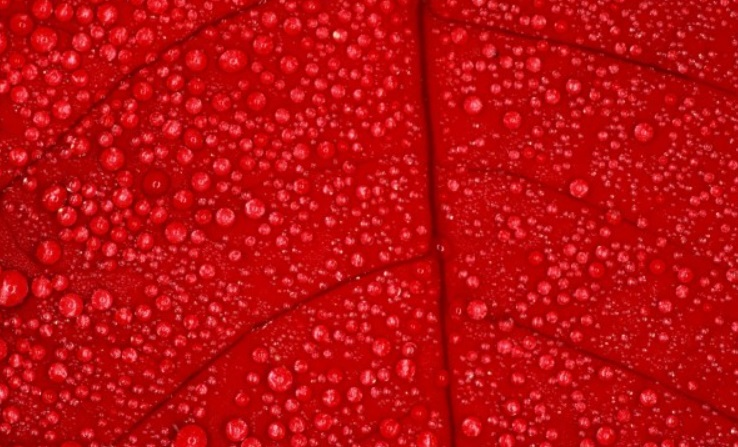Red: (9, 11, 728, 440)
